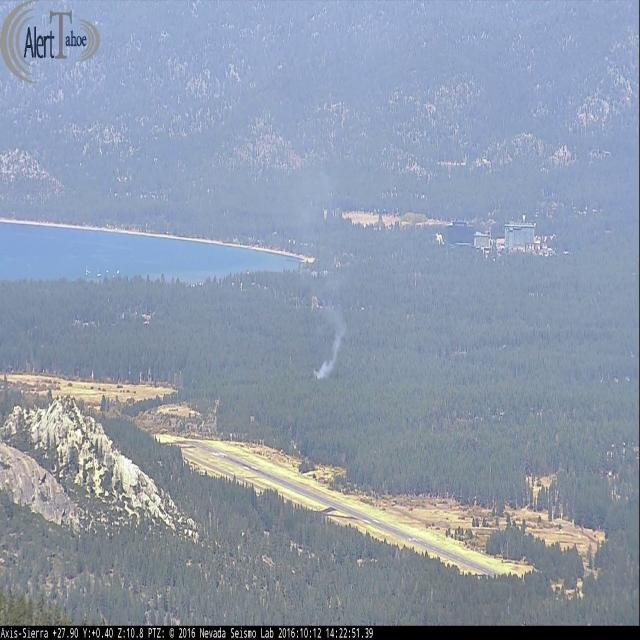smoke: (308, 180, 345, 384)
